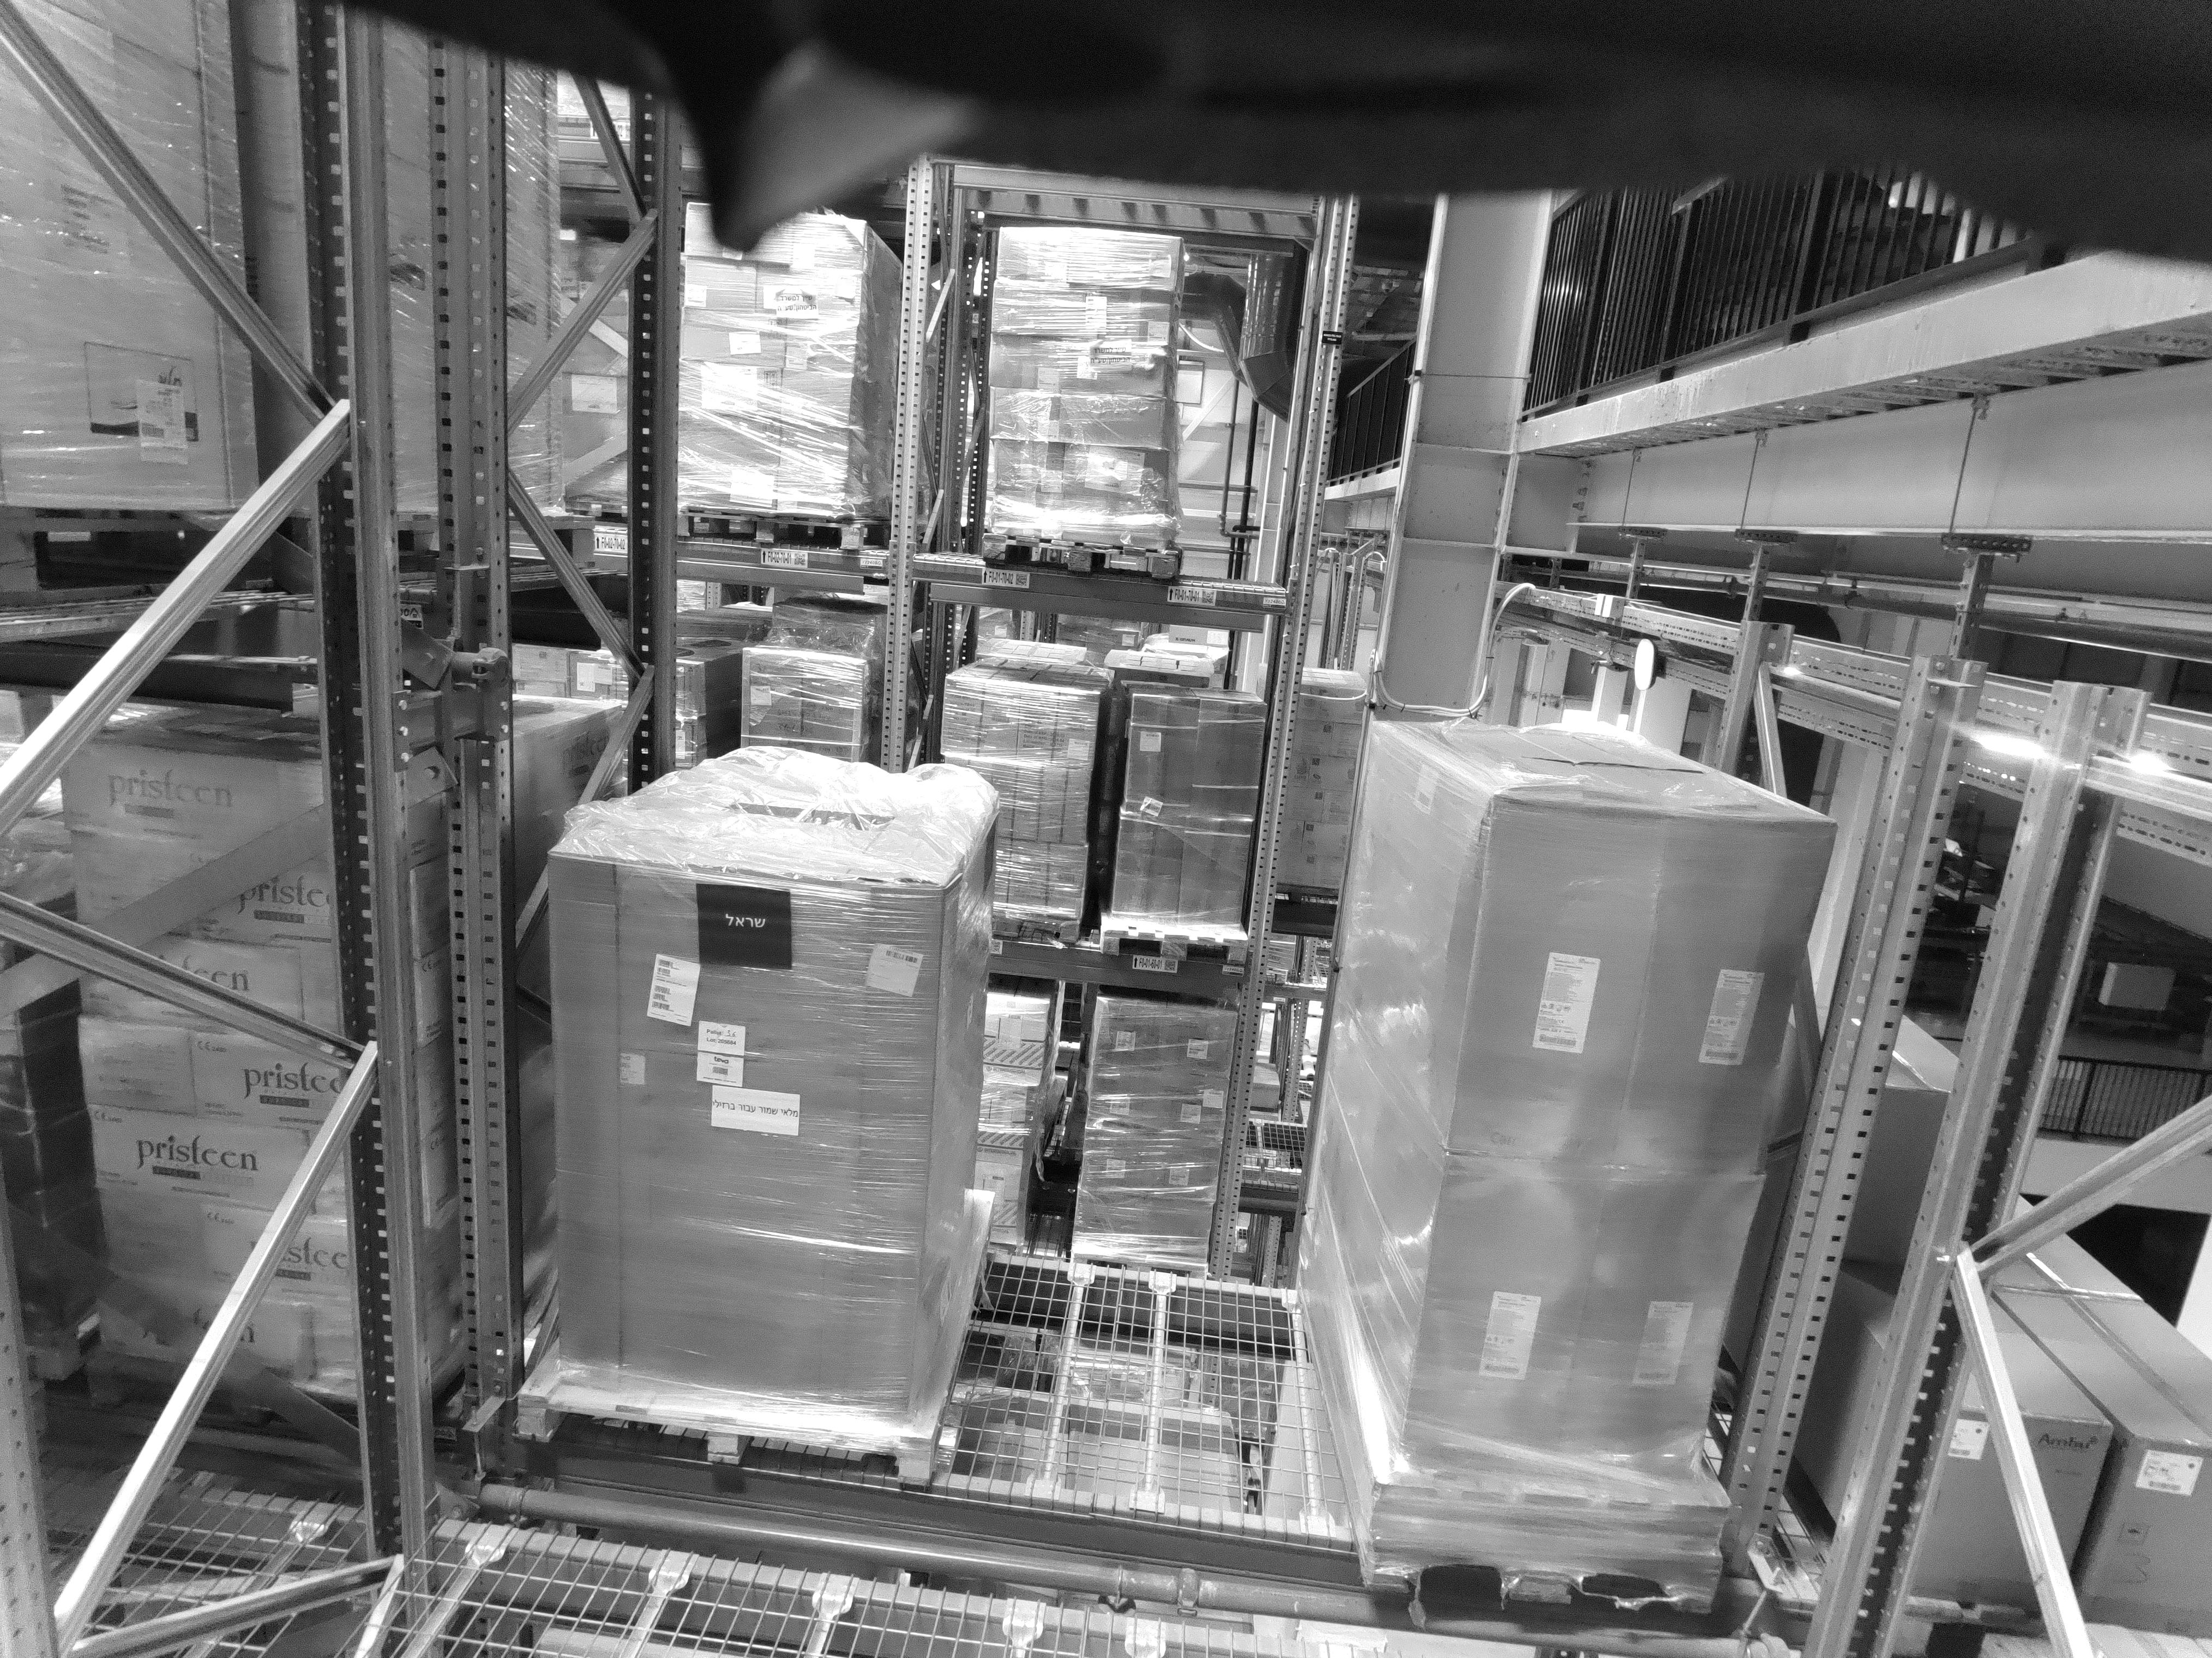empty-shelf: (1033, 728, 1290, 1459)
